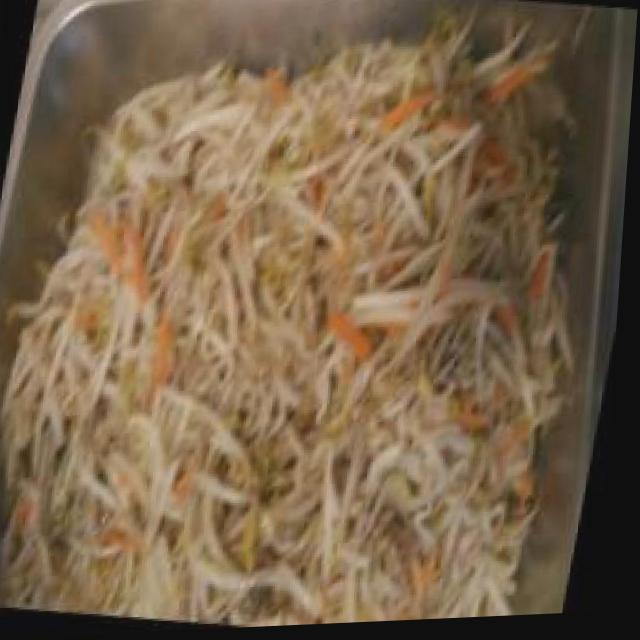mung_bean_sprouts: (0, 14, 609, 639)
